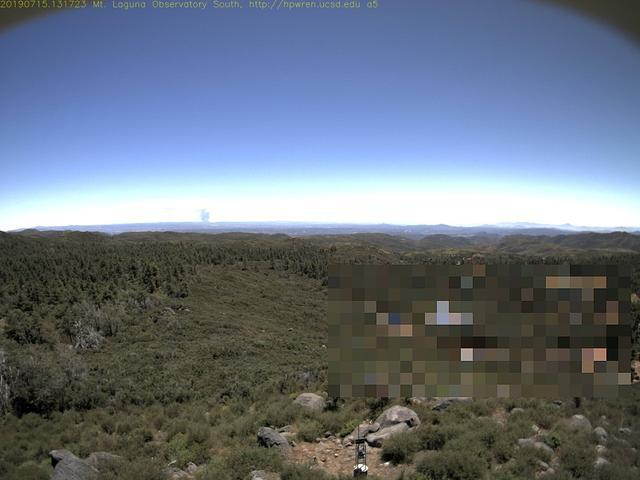smoke: (197, 206, 214, 229)
